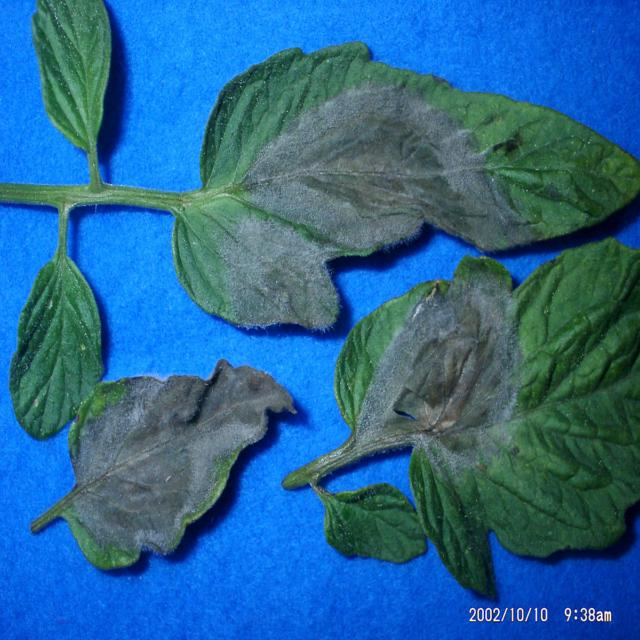Late_blight: (211, 84, 542, 333), (58, 357, 295, 573), (347, 261, 528, 479)
